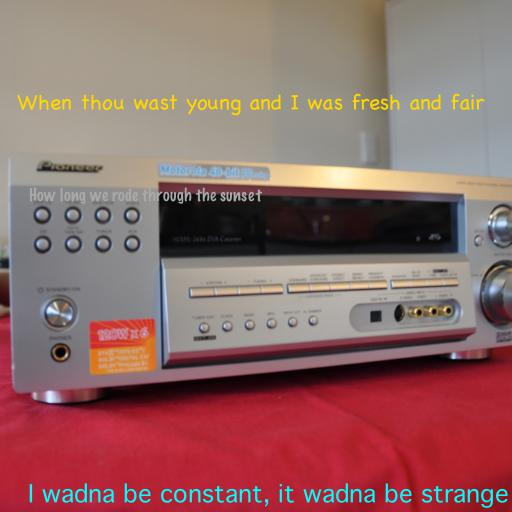Chalkboard: (16, 93, 484, 116)
Geneva: (27, 483, 509, 508)
Marker Felt: (29, 187, 261, 204)
